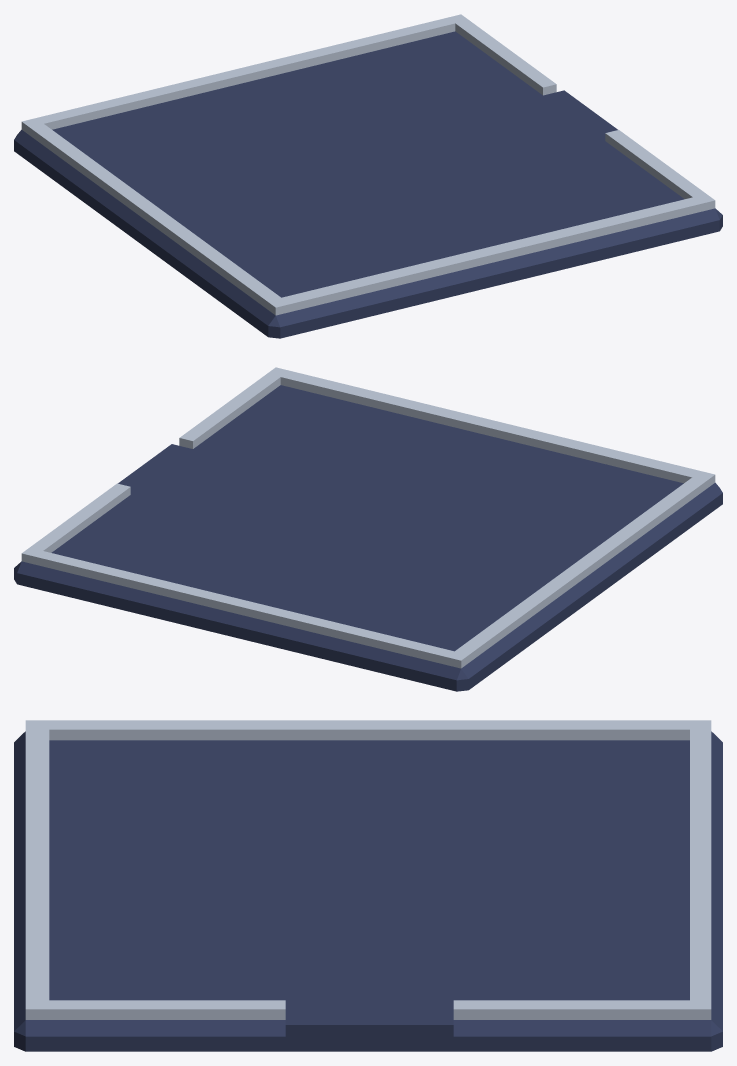
The model's file is adv_shop_base_3x3.fbx.
3 views of the same model, one above another, from view 1: azimuth 30°, elevation 25°; view 2: azimuth 150°, elevation 25°; view 3: azimuth 270°, elevation 25° (orthographic). The views are drawn at different scales.
Visible parts, largest first — view 1: adv_shop_base_3x3; view 2: adv_shop_base_3x3; view 3: adv_shop_base_3x3.
Part boxes in pixels (bbox=[...]): adv_shop_base_3x3: bbox=[14, 14, 722, 338]; adv_shop_base_3x3: bbox=[14, 367, 722, 691]; adv_shop_base_3x3: bbox=[14, 720, 722, 1051].
Size of the model in its own units: 599 by 35 by 600.
